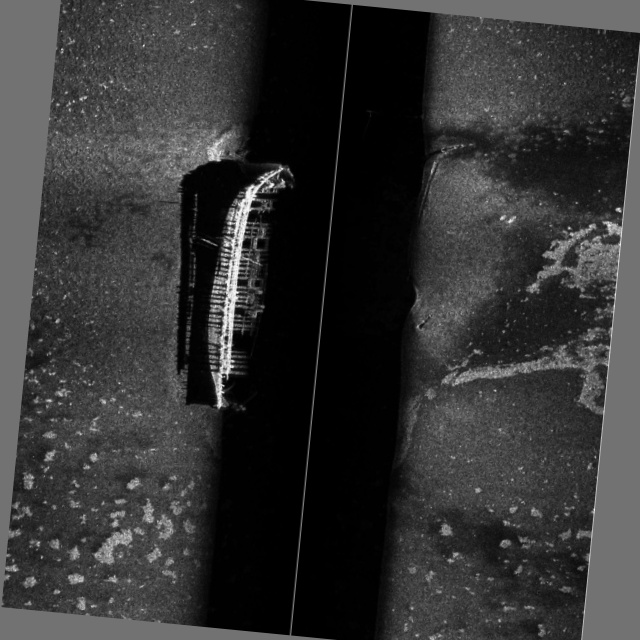Shipwreck: (172, 117, 473, 433)
